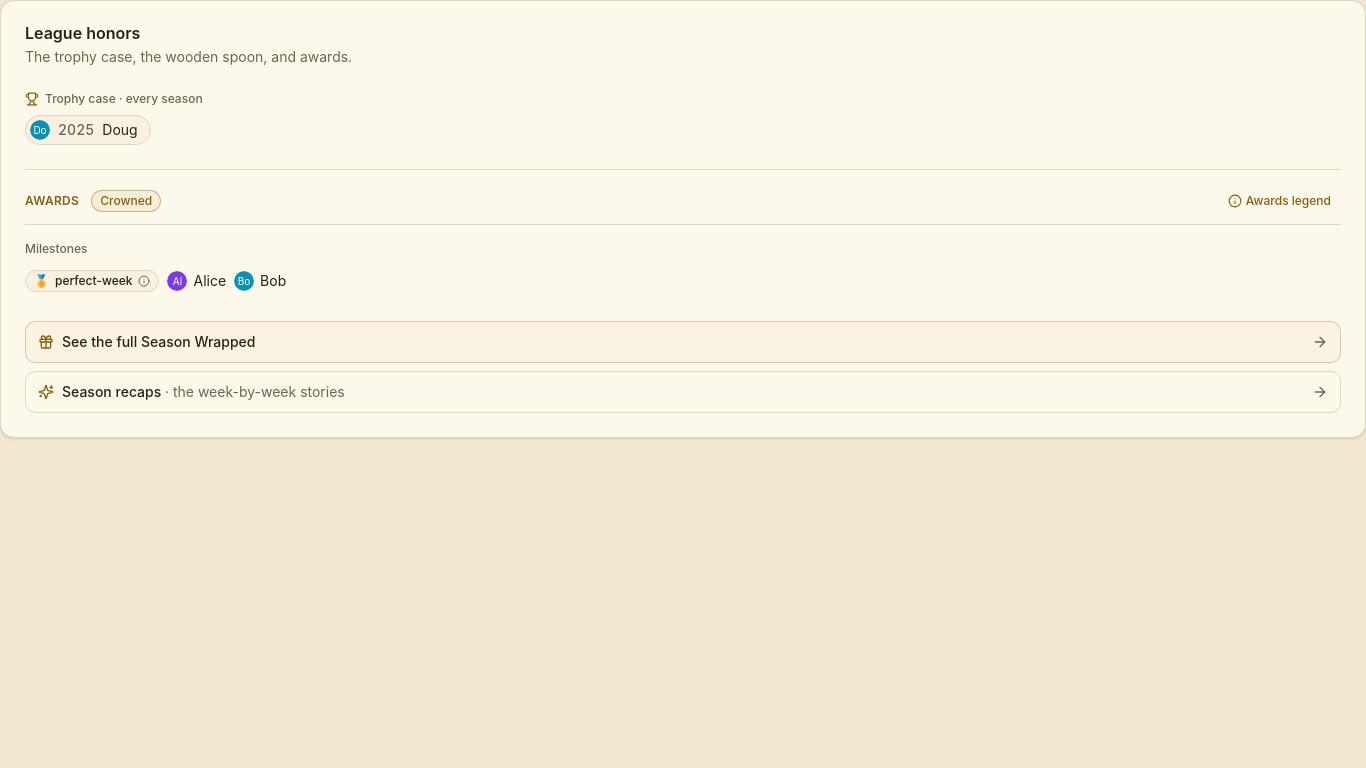
LeagueHonors — tap-to-explain award popover (#881) › maps a different winning measure to each holder of a milestone
Click the button with test id "badge-chip-perfect-week". click: point(92, 281)
box: [25,265,160,297]
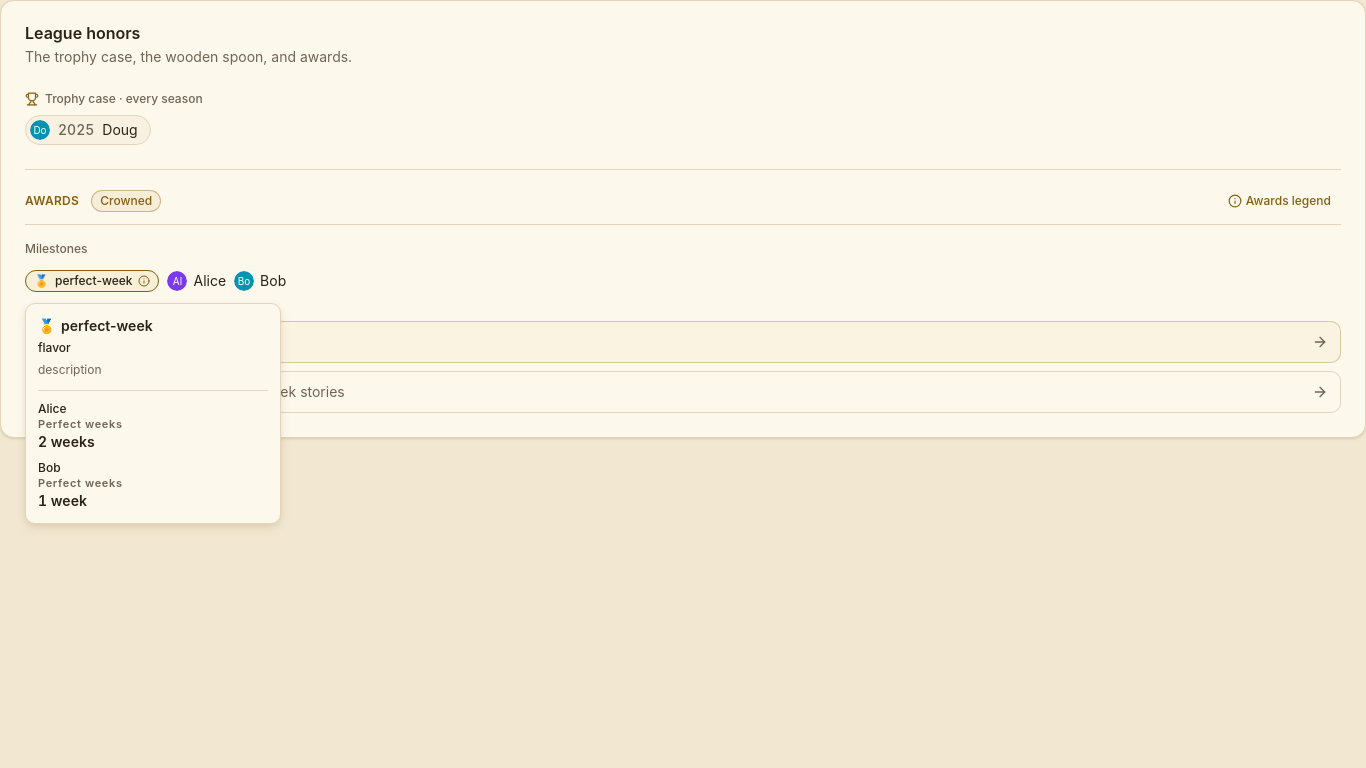
expect the element with test id "badge-holder-detail-perfect-week-u1" shows "Alice": met, box [38,401,66,416]
expect the element with test id "badge-holder-detail-perfect-week-u1" shows "2 weeks": met, box [38,433,95,450]
expect the element with test id "badge-holder-detail-perfect-week-u2" shows "Bob": met, box [38,460,60,475]
